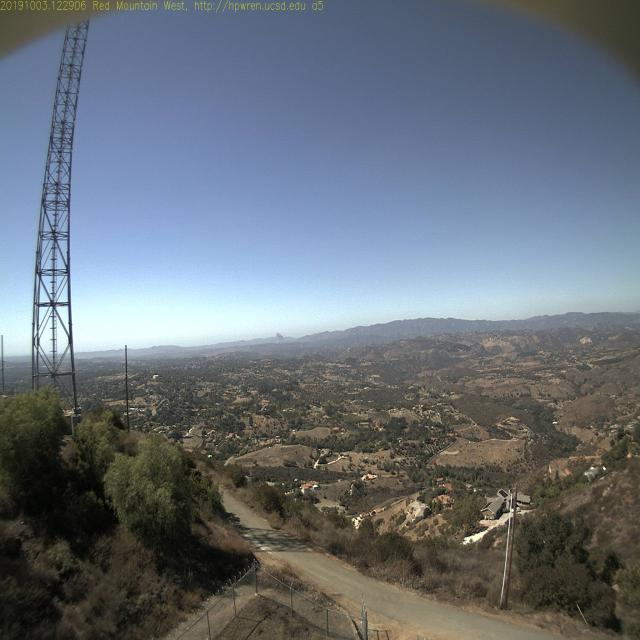smoke: (271, 326, 286, 349), (270, 325, 286, 345)
